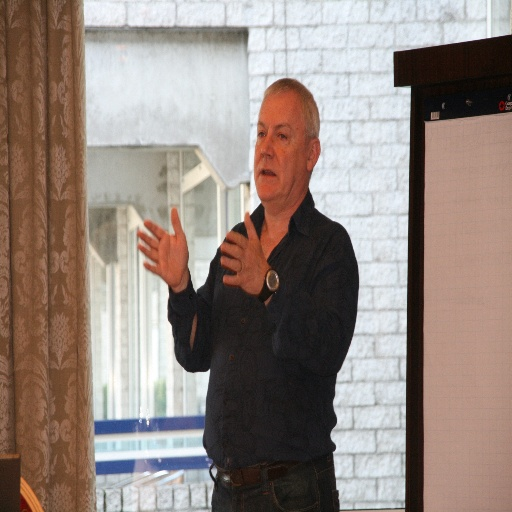hand: (219, 192, 274, 305), (136, 205, 189, 287)
